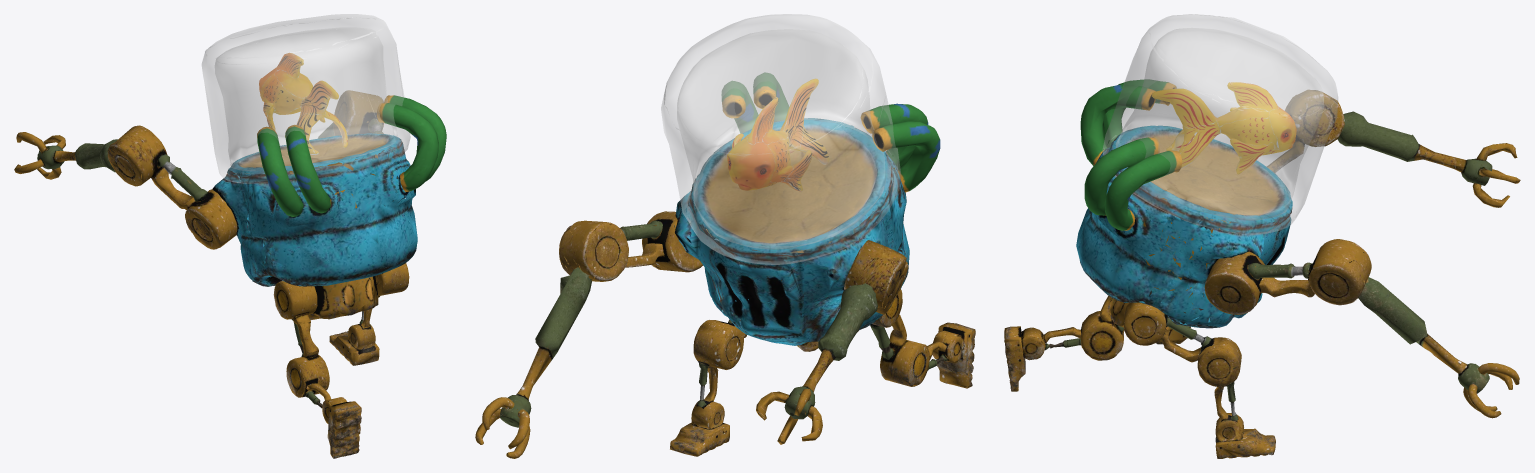
Rendered from peixe robo para presente maior que o peixe dourado.glb.
3 renders of one model, left to right at view 1: azimuth 30°, elevation 25°; view 2: azimuth 150°, elevation 25°; view 3: azimuth 270°, elevation 25°, orthographic. The views are drawn at different scales.
Parts seen in each view (by area): view 1: Glass ext_5, Torso_0, Arm 12_9, Leg_6, Fish_11, Tube 3_2, Tube_4, Leg 1_7, Hip_8, Arm 6_10; view 2: Glass ext_5, Torso_0, Arm 6_10, Arm 12_9, Fish_11, Leg_6, Leg 1_7, Tube 3_2, Tube_4; view 3: Glass ext_5, Torso_0, Arm 6_10, Arm 12_9, Fish_11, Leg 1_7, Tube_4, Leg_6, Tube 3_2, Hip_8.
Part boxes in pixels (x1,y1,x2,y2): Glass ext_5: (202,14,410,183); Torso_0: (212,133,417,286); Arm 12_9: (14,125,237,249); Leg_6: (273,280,361,458); Fish_11: (259,53,347,154); Tube 3_2: (257,125,331,216); Tube_4: (377,95,446,191); Leg 1_7: (329,263,409,365); Hip_8: (290,163,378,320); Arm 6_10: (318,90,397,177); Glass ext_5: (661,14,901,264); Torso_0: (674,118,909,345); Arm 6_10: (475,211,711,458); Arm 12_9: (756,240,908,444); Fish_11: (727,78,829,191); Leg_6: (870,289,975,388); Leg 1_7: (670,319,746,456); Tube 3_2: (860,103,940,192); Tube_4: (721,72,788,133); Glass ext_5: (1102,14,1337,234); Torso_0: (1076,125,1292,328); Arm 6_10: (1204,239,1519,418); Arm 12_9: (1267,90,1520,207); Fish_11: (1152,82,1296,174); Leg 1_7: (1124,302,1275,458); Tube_4: (1084,137,1182,230); Leg_6: (1004,296,1123,391); Tube 3_2: (1080,79,1176,165); Hip_8: (1108,198,1230,344).
Size of the model in its own units: 0.4759 by 0.5407 by 0.65.
Materials: 10 (9 with a texture image).
